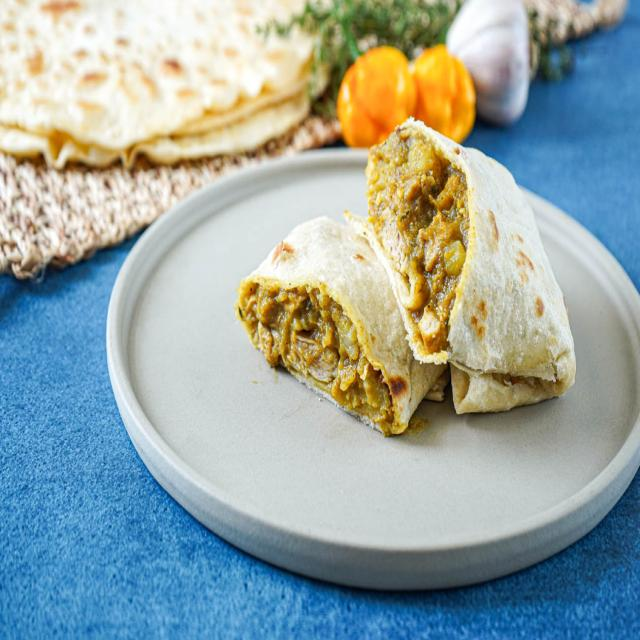RICE BHAKRI: (246, 217, 440, 419), (448, 148, 576, 413)
